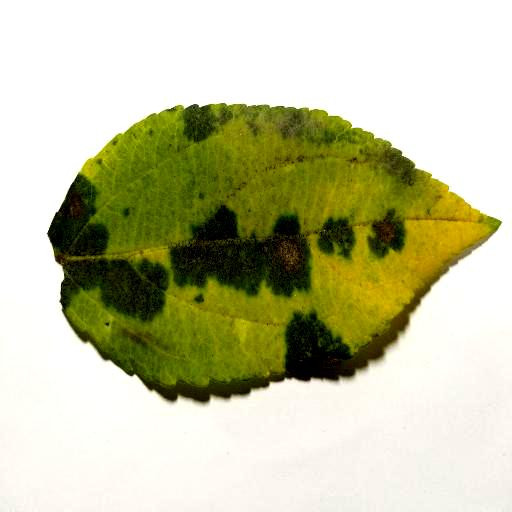Brown_Spot: (54, 179, 401, 387)
